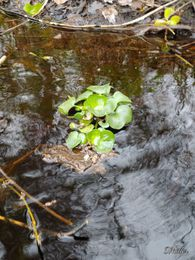water_hyacinth: (53, 81, 136, 154)
